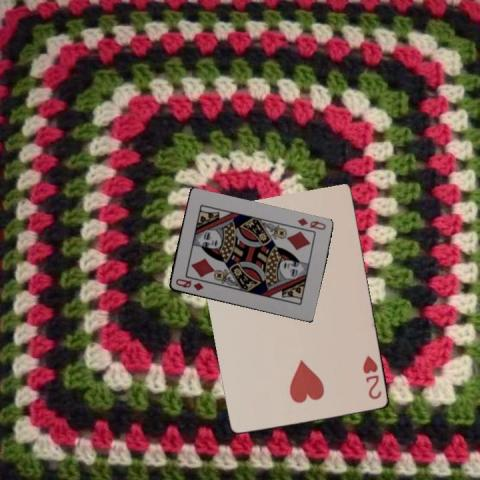2h: (360, 353, 383, 401)
Qd: (172, 276, 204, 292), (294, 216, 326, 232)
